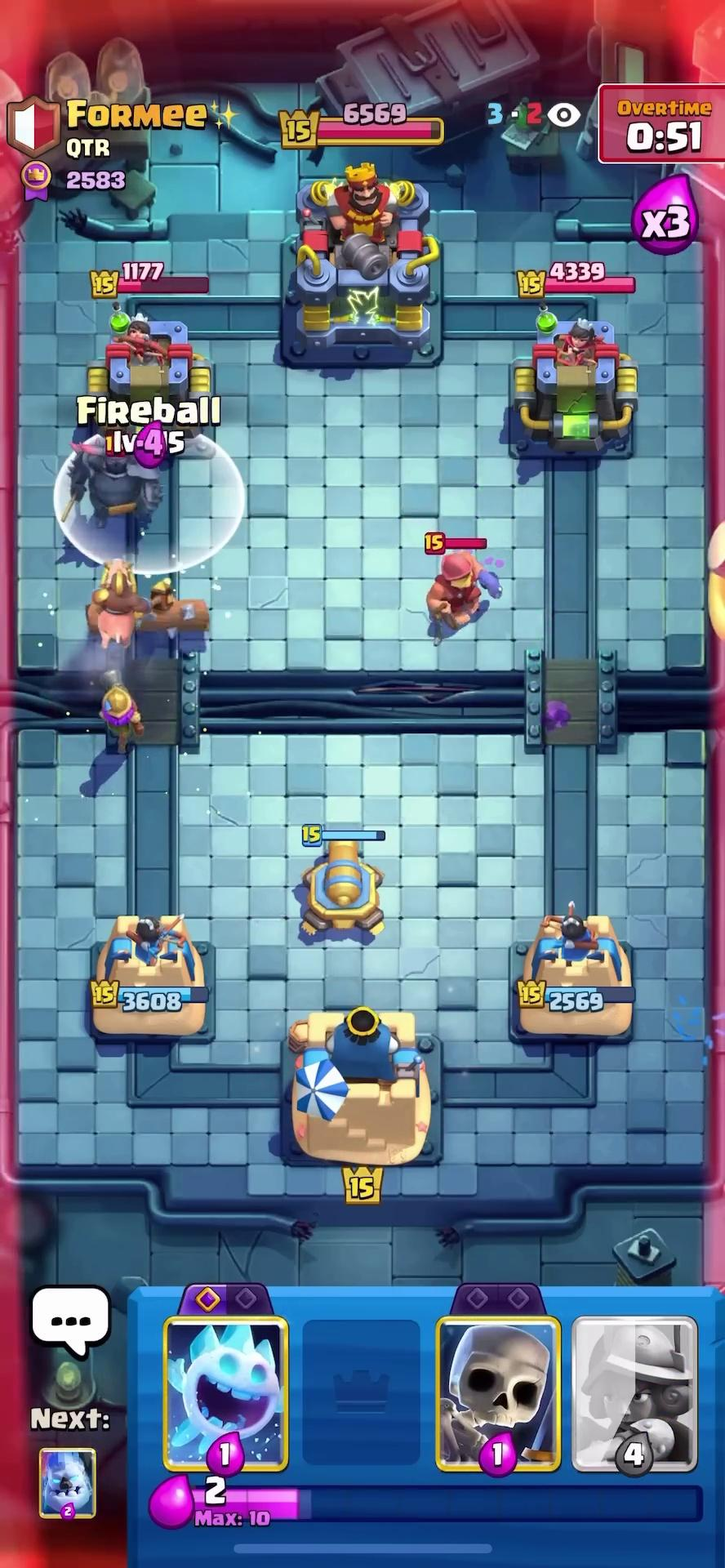cannon: (284, 825, 404, 949)
hog_rider: (78, 547, 159, 657)
log: (141, 592, 216, 643)
musketeer: (84, 668, 151, 757)
